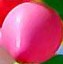Balloon: (1, 2, 63, 64)
